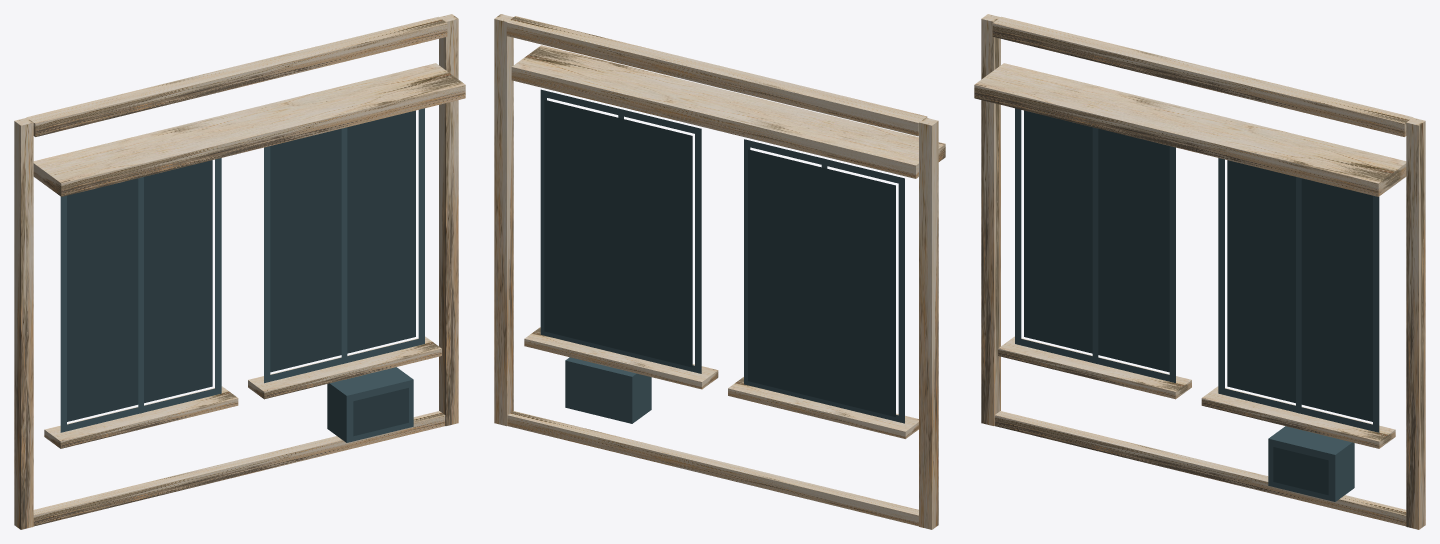
The model's file is facade_aged_office_upper.glb.
3 renders of one model, left to right at view 1: azimuth 30°, elevation 25°; view 2: azimuth 150°, elevation 25°; view 3: azimuth 330°, elevation 25°, orthographic.
Visible parts, largest first — view 1: lod1_facade_aged_office_upper__VVK_dark_glass, lod1_facade_aged_office_upper__VVK_concrete_CC0, lod1_facade_aged_office_upper__VVK_painted_steel; view 2: lod1_facade_aged_office_upper__VVK_dark_glass, lod1_facade_aged_office_upper__VVK_concrete_CC0, lod1_facade_aged_office_upper__VVK_painted_steel; view 3: lod1_facade_aged_office_upper__VVK_dark_glass, lod1_facade_aged_office_upper__VVK_concrete_CC0, lod1_facade_aged_office_upper__VVK_painted_steel.
Part boxes in pixels (x1,y1,x2,y2): lod1_facade_aged_office_upper__VVK_dark_glass: (67, 110, 415, 436); lod1_facade_aged_office_upper__VVK_concrete_CC0: (14, 14, 465, 529); lod1_facade_aged_office_upper__VVK_painted_steel: (60, 108, 424, 442); lod1_facade_aged_office_upper__VVK_dark_glass: (544, 99, 895, 416); lod1_facade_aged_office_upper__VVK_concrete_CC0: (494, 14, 945, 529); lod1_facade_aged_office_upper__VVK_painted_steel: (540, 89, 904, 423); lod1_facade_aged_office_upper__VVK_dark_glass: (1024, 110, 1372, 495); lod1_facade_aged_office_upper__VVK_concrete_CC0: (974, 14, 1425, 529); lod1_facade_aged_office_upper__VVK_painted_steel: (1015, 108, 1379, 501).
Size of the model in its own units: 3.4 by 3 by 0.418.
3 materials, 1 textured.
